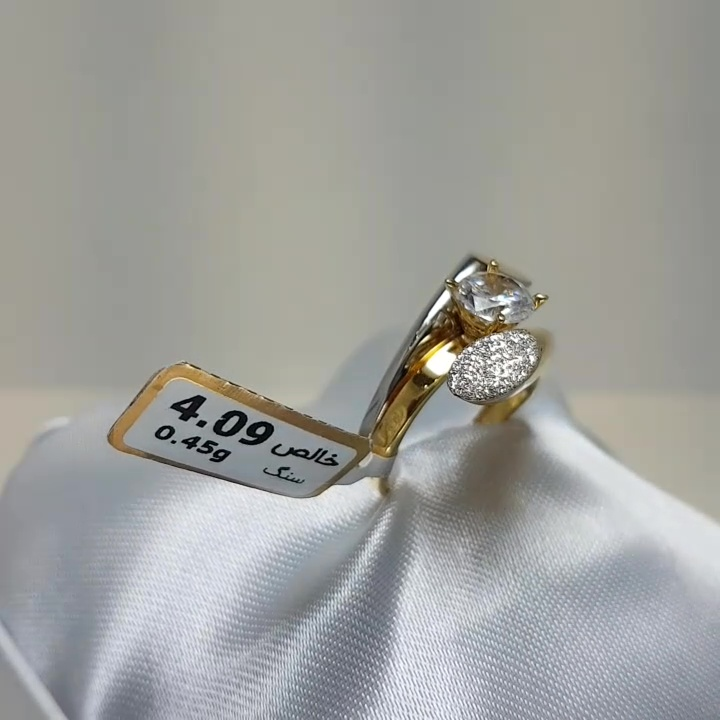Ring 7: (348, 255, 570, 489)
